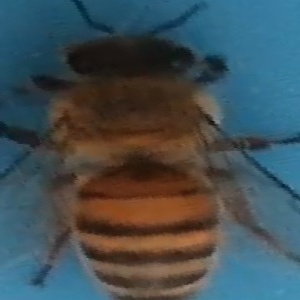bee: (3, 3, 293, 298)
